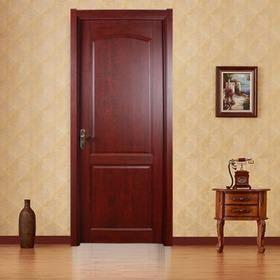door: (77, 17, 166, 243)
